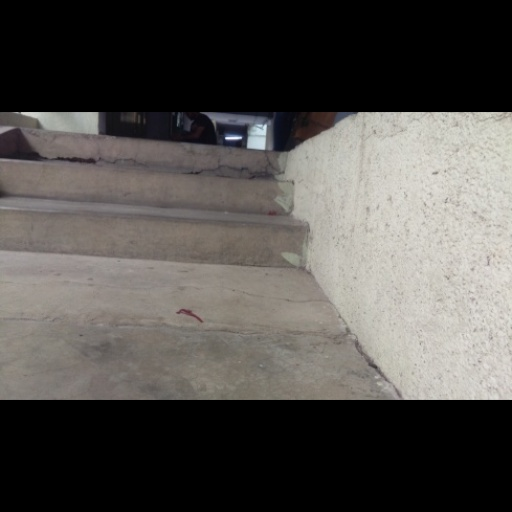Stairs: (0, 128, 307, 267)
